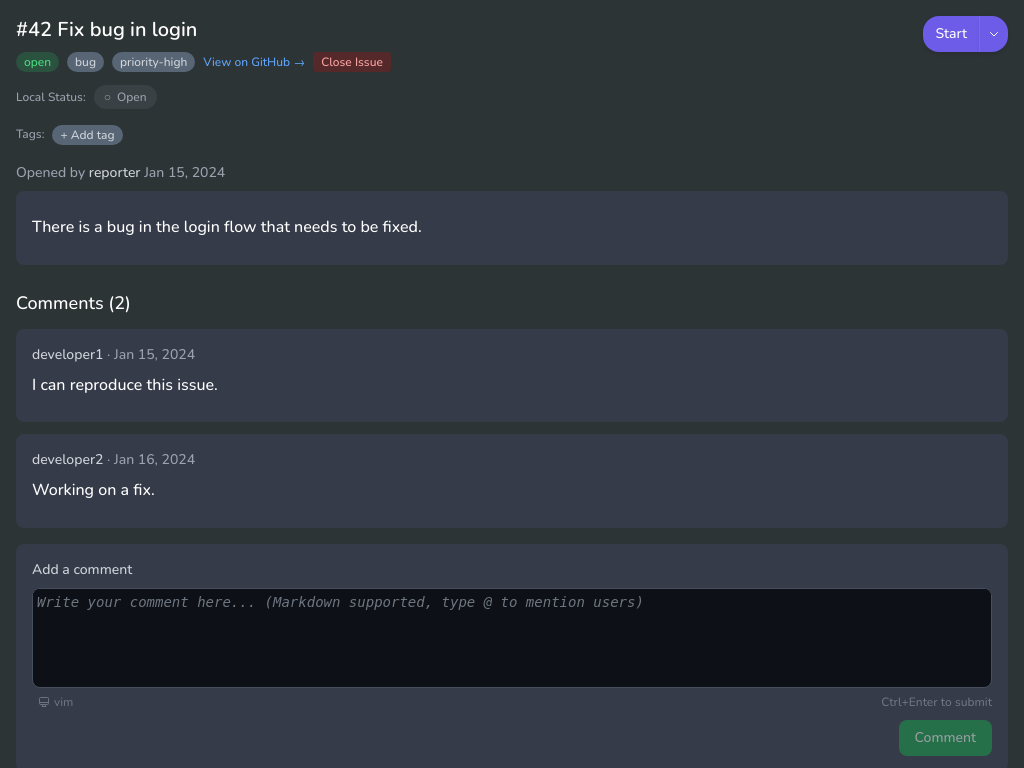
it: IssueDetail › Issue Actions › shows loading state while closing issue
Click the button "Close Issue".
click(352, 62)  # box [313, 52, 391, 72]
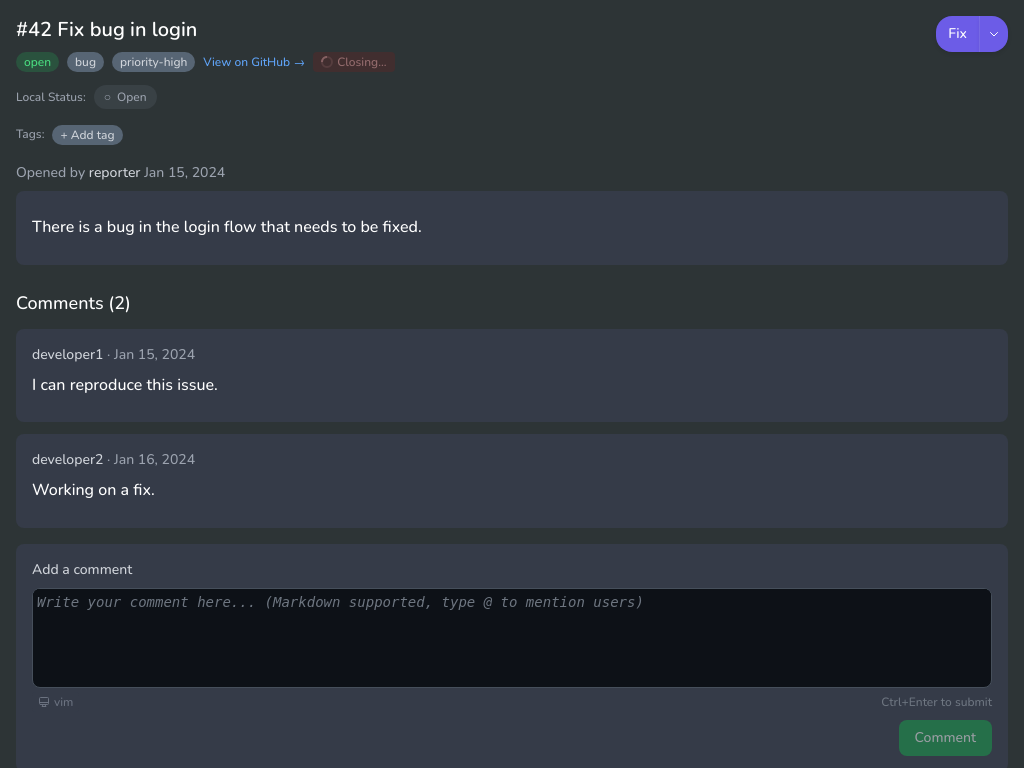
Expected: the button "Closing..." is shown, [313, 52, 395, 72]
